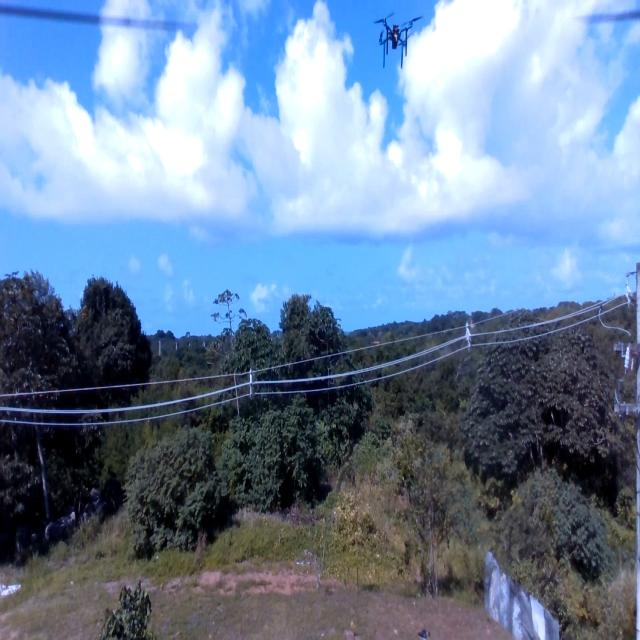-uav-: (368, 5, 428, 72)
